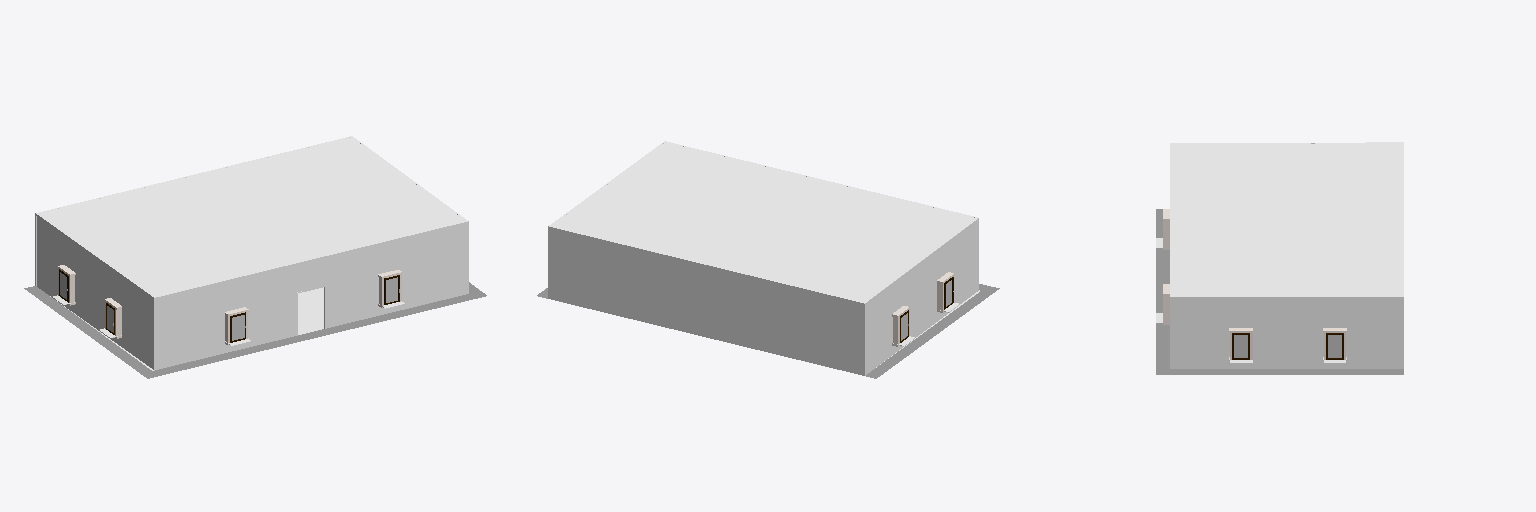
The model's file is EstructuraMAIN.obj.
3 renders of one model, left to right at view 1: azimuth 30°, elevation 25°; view 2: azimuth 150°, elevation 25°; view 3: azimuth 270°, elevation 25°, orthographic.
Visible parts, largest first — view 1: room_6_27, wall_3_16, wall_4_22, ground_1, room_5_26; view 2: room_6_27, wall_1_4, wall_4_22, ground_1; view 3: room_6_27, wall_2_10, ground_1.
Part boxes in pixels (left/top/right/bottom): room_6_27: left=36, top=137, right=465, bottom=296; wall_3_16: left=154, top=221, right=468, bottom=370; wall_4_22: left=37, top=217, right=153, bottom=369; ground_1: left=24, top=282, right=486, bottom=378; room_5_26: left=50, top=287, right=323, bottom=370; room_6_27: left=551, top=142, right=975, bottom=305; wall_1_4: left=548, top=226, right=864, bottom=375; wall_4_22: left=866, top=218, right=978, bottom=374; ground_1: left=537, top=284, right=999, bottom=378; room_6_27: left=1172, top=143, right=1401, bottom=295; wall_2_10: left=1170, top=297, right=1403, bottom=368; ground_1: left=1156, top=209, right=1403, bottom=374.
Bounding box in the file's own units: 1719 × 350 × 1081.